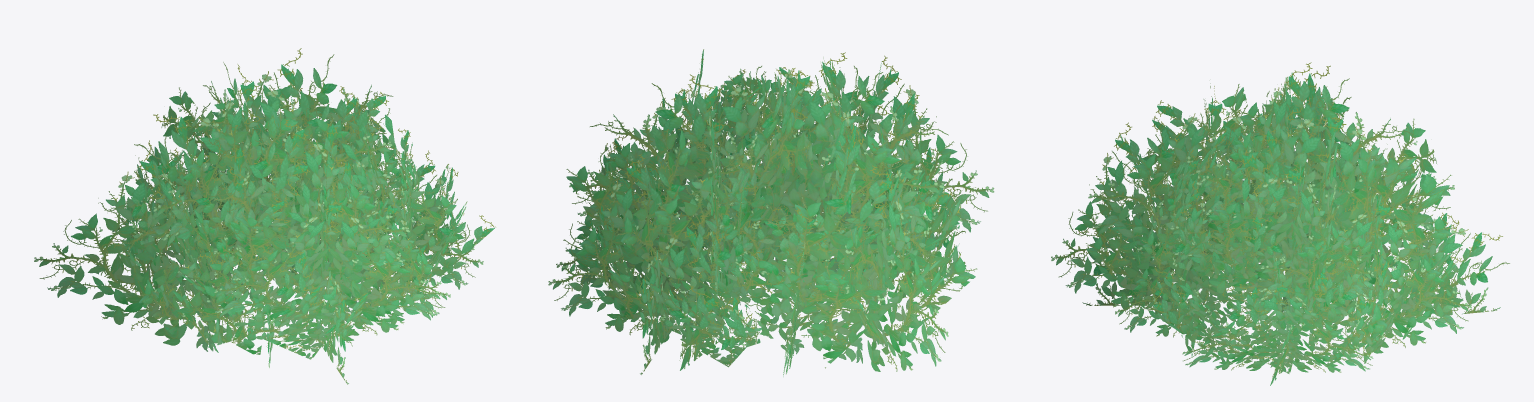
File: SM_cao02_ZYF_zone2.fbx
3 renders of one model, left to right at view 1: azimuth 30°, elevation 25°; view 2: azimuth 150°, elevation 25°; view 3: azimuth 270°, elevation 25°, orthographic. The views are drawn at different scales.
Visible parts, largest first — view 1: SM_cao02_ZYF_zone2.mo; view 2: SM_cao02_ZYF_zone2.mo; view 3: SM_cao02_ZYF_zone2.mo.
Boxes of the visible parts, bbox=[...] form: SM_cao02_ZYF_zone2.mo: bbox=[34, 48, 495, 384]; SM_cao02_ZYF_zone2.mo: bbox=[548, 49, 994, 376]; SM_cao02_ZYF_zone2.mo: bbox=[1051, 62, 1509, 385].
Bounding box in the file's own units: 4.67 × 3.54 × 4.75.
